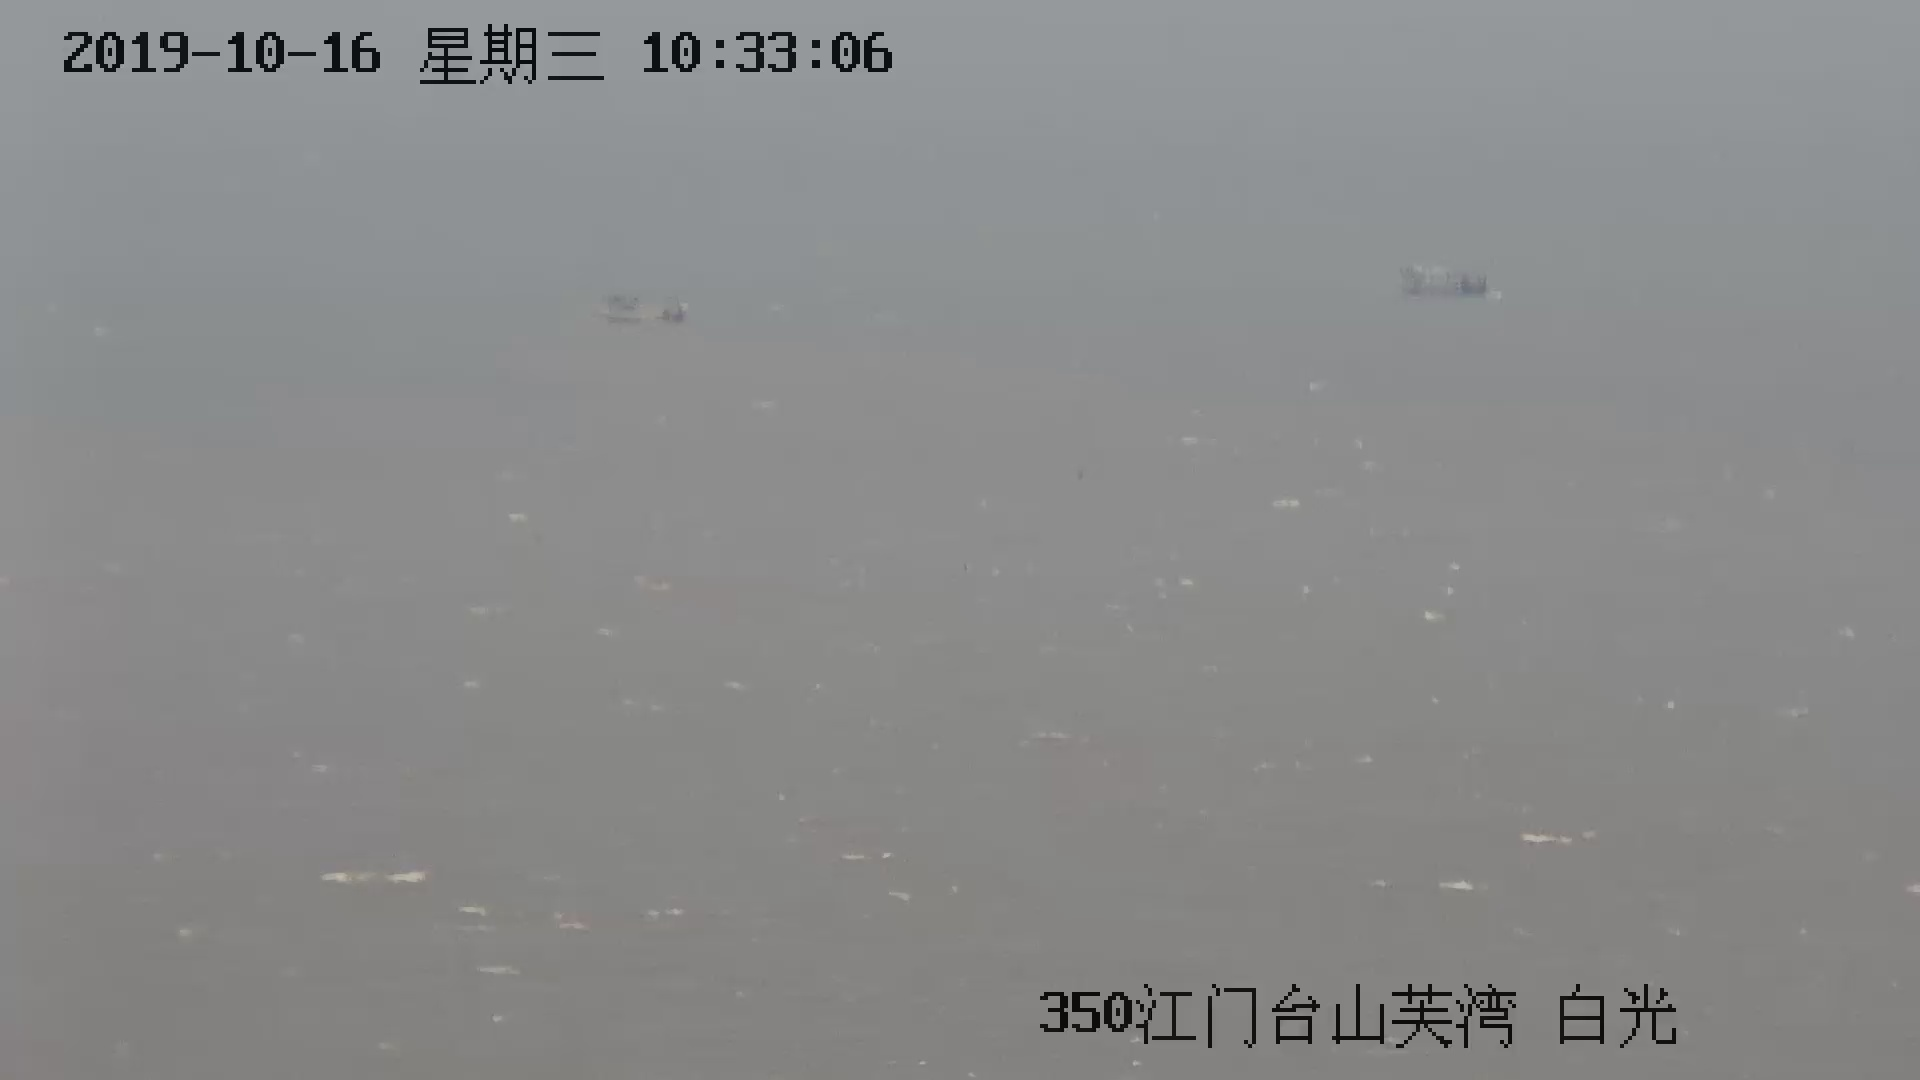ship: (1396, 266, 1491, 301), (599, 295, 688, 326)
